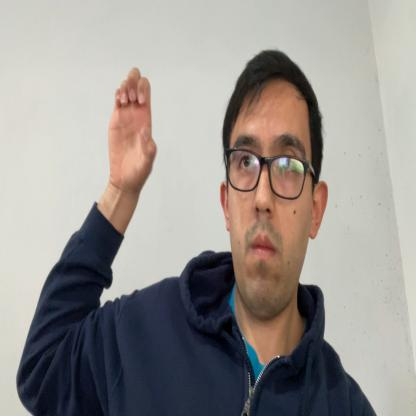E: (108, 64, 158, 192)
